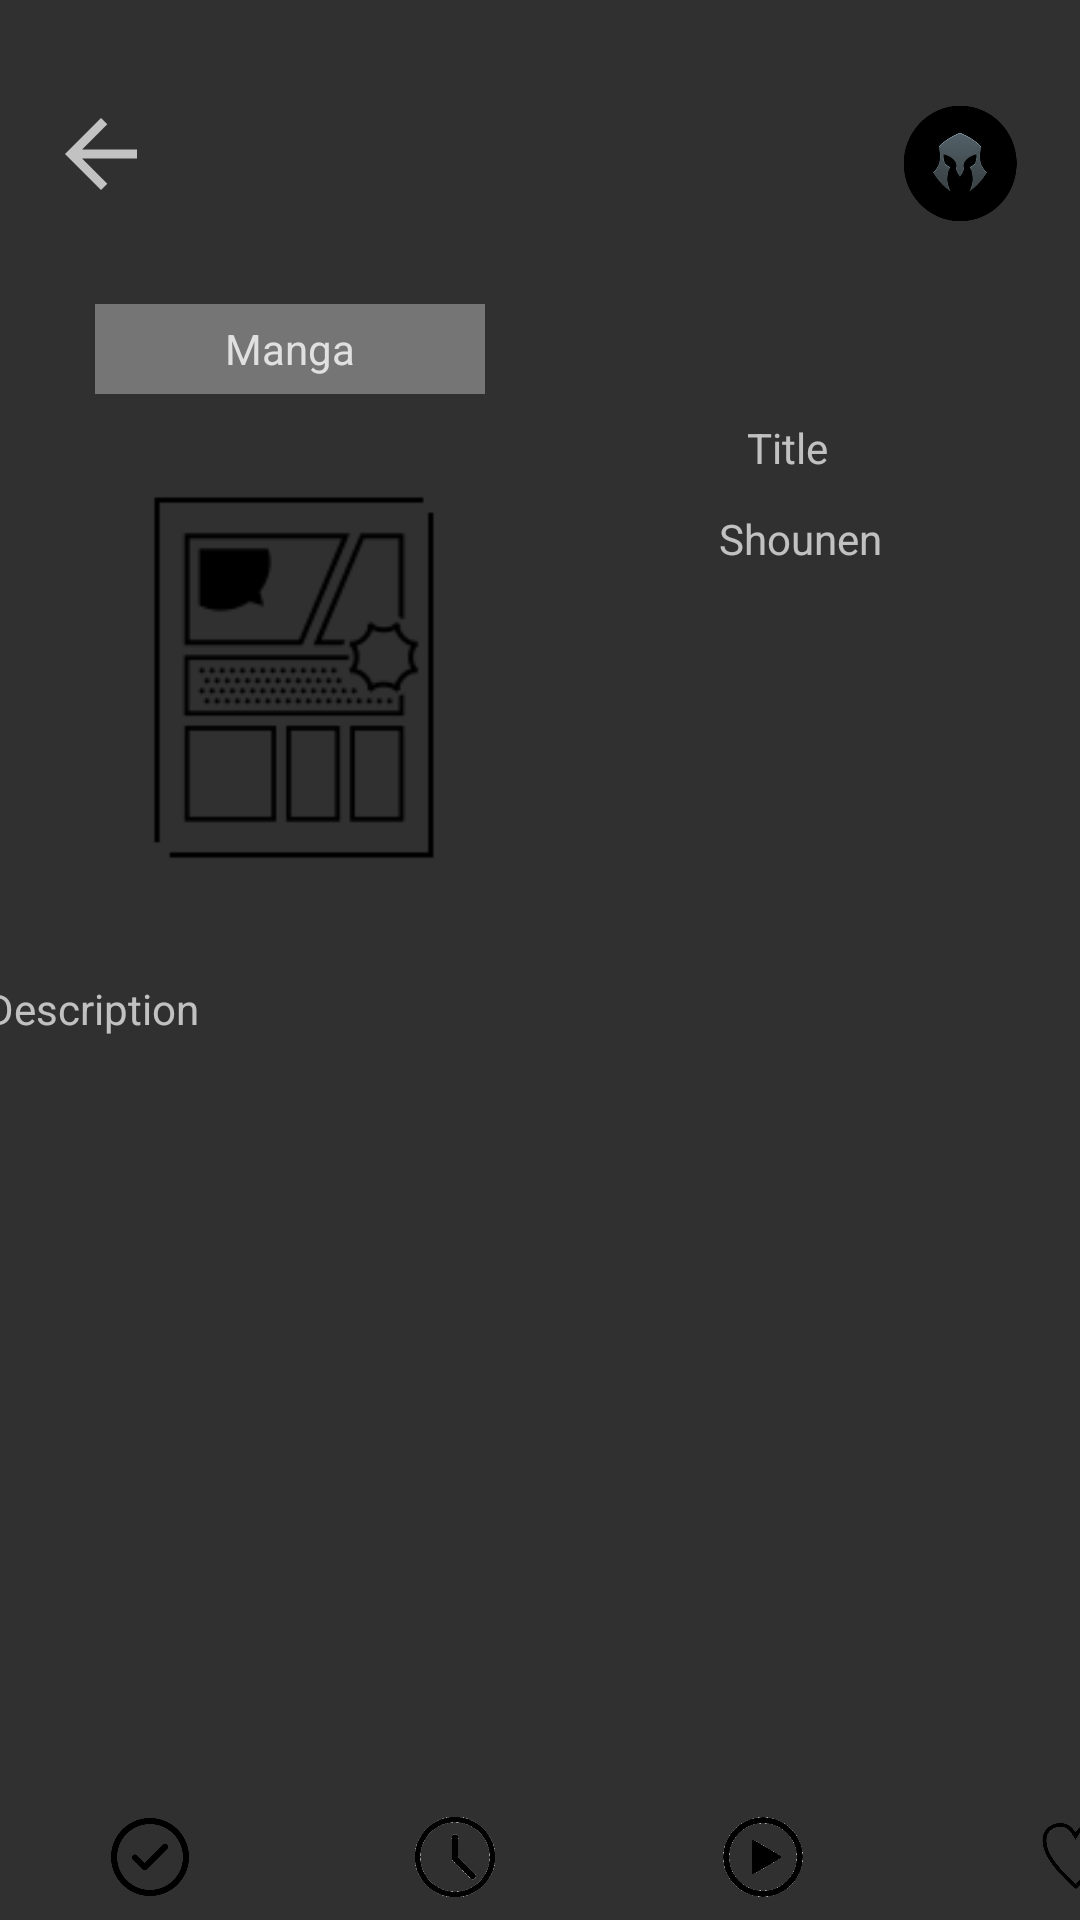

Named icons in this screenshot (1080×1920) and their bounding boxes, (x1, y1, x2, y2):
manga pending: (415, 1817, 495, 1897)
manga read: (111, 1818, 189, 1896)
manga reading: (723, 1817, 803, 1897)
Profile picture: (904, 106, 1017, 221)
